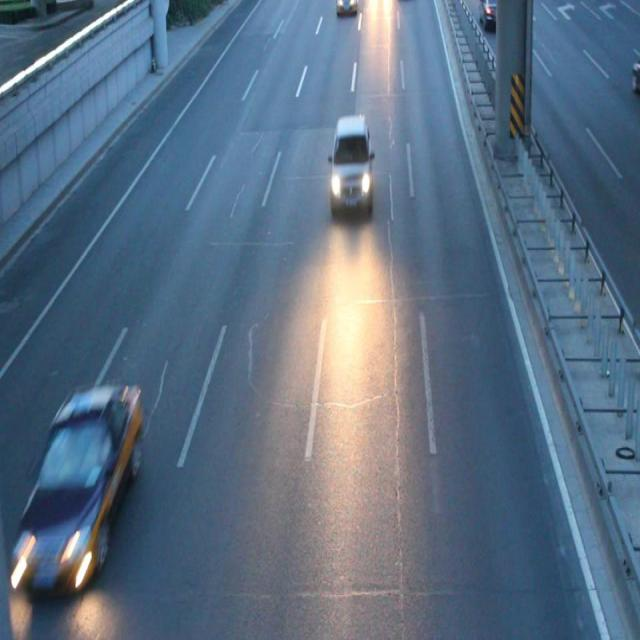car: (19, 382, 142, 592), (328, 114, 374, 213)
